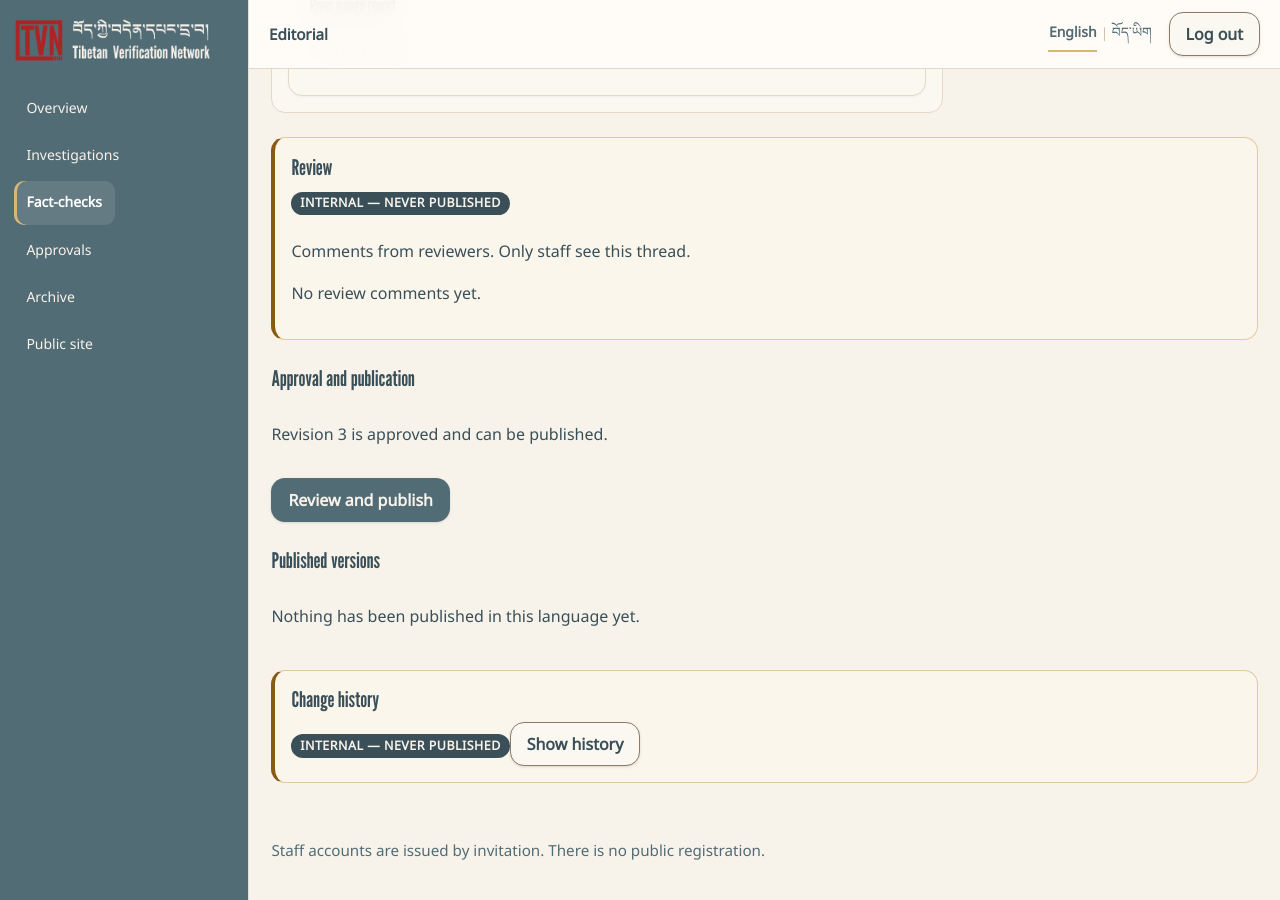
it: publish › closes with Escape and returns focus to the button that opened it
(page scrolled)
Step 1. Click the button "Review and publish" → (361, 500), box [271,478,450,522]
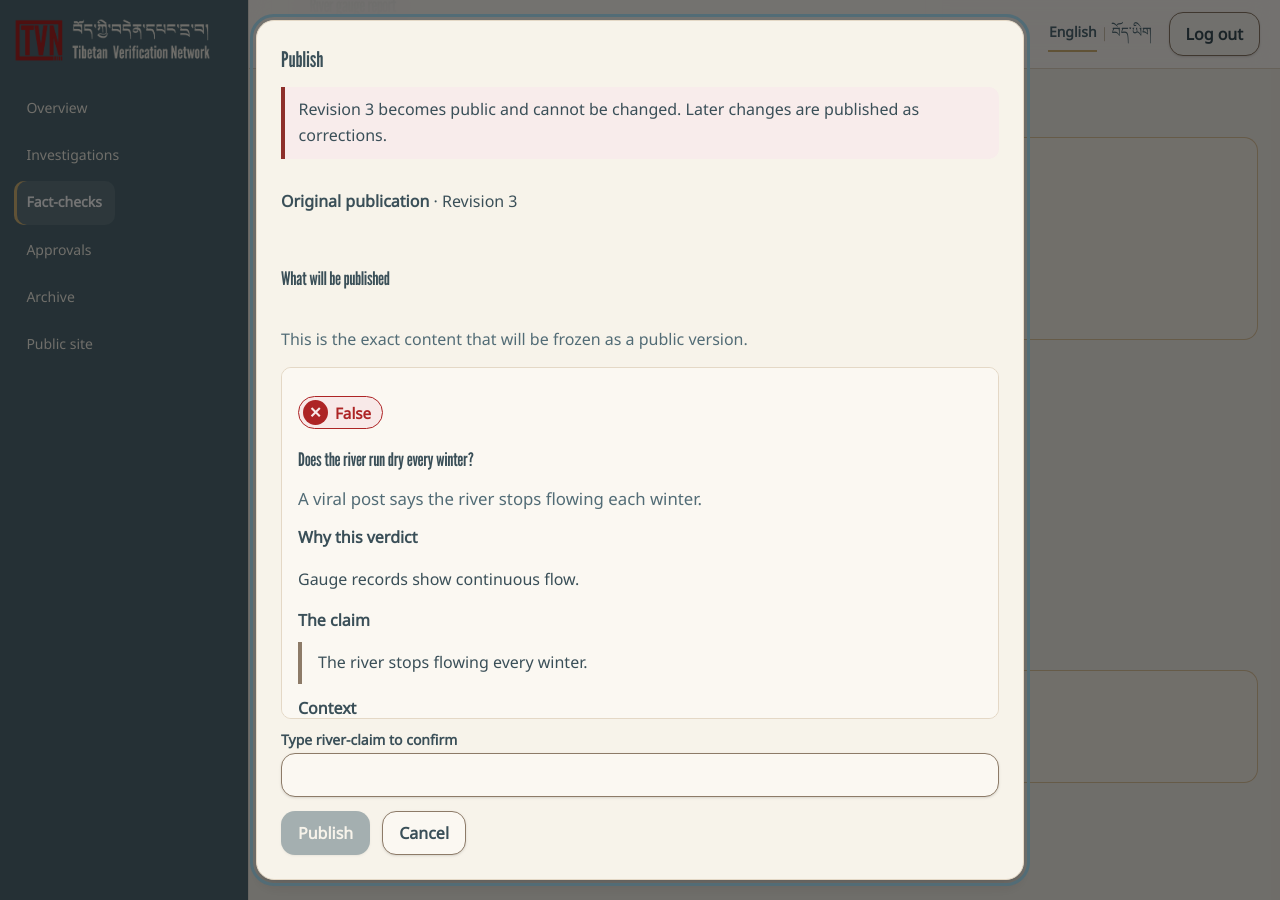
Expected: the dialog is shown, [256,20,1024,880]
Step 2. Press Escape
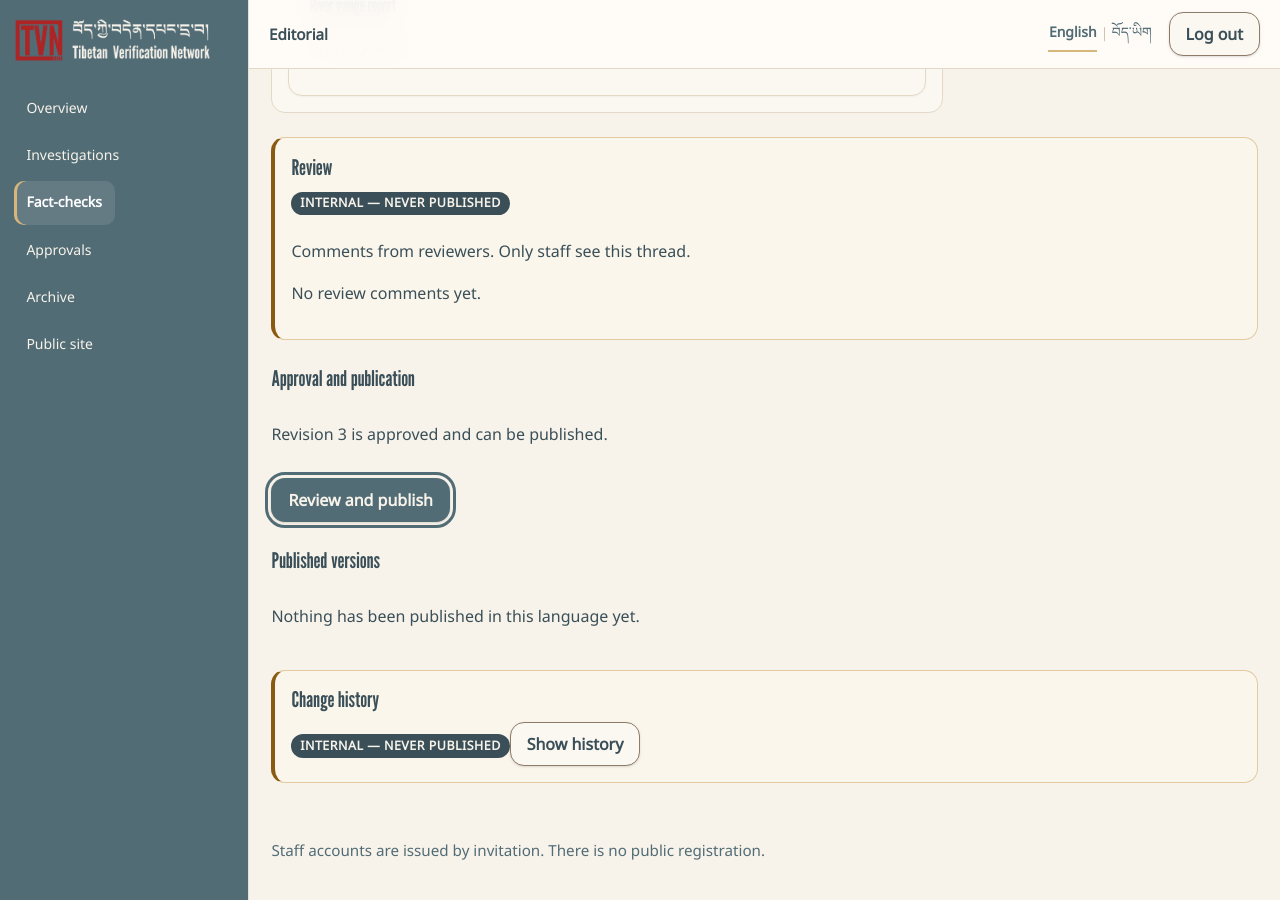
Expected: the dialog is gone
